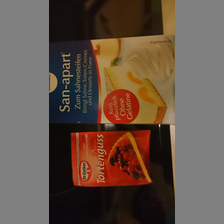cake: (49, 39, 175, 123), (68, 131, 154, 186)
